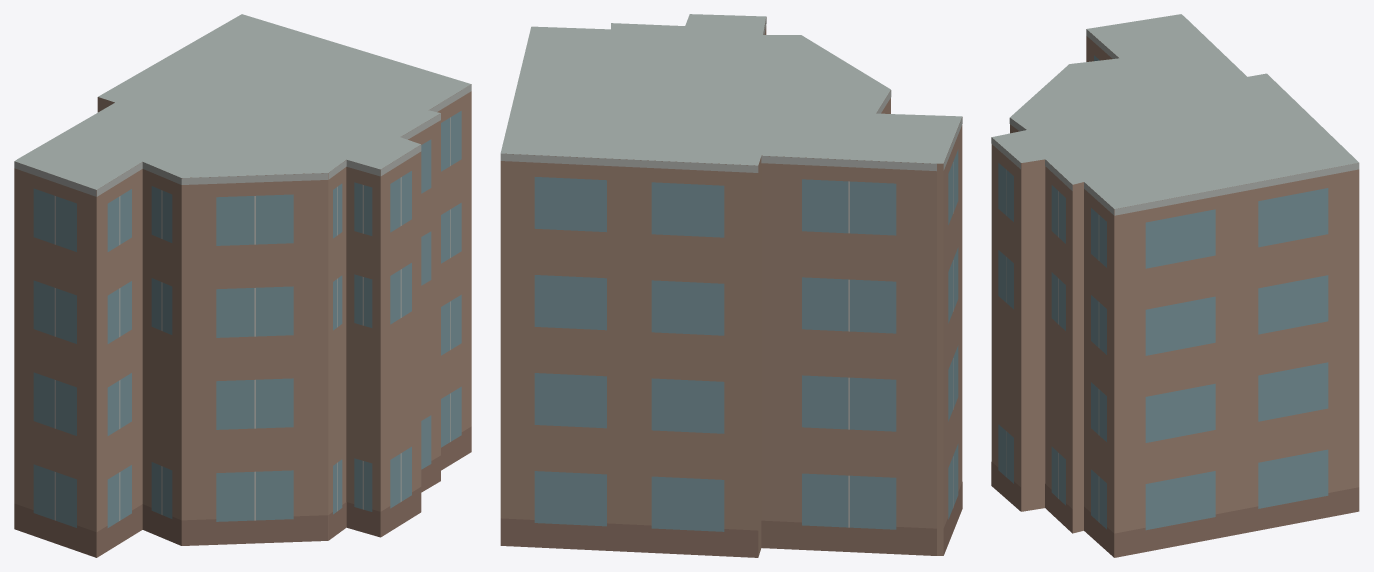
Rendered from survey-upis-32619391.glb.
3 renders of one model, left to right at view 1: azimuth 30°, elevation 25°; view 2: azimuth 150°, elevation 25°; view 3: azimuth 270°, elevation 25°, orthographic. The views are drawn at different scales.
Visible parts, largest first — view 1: survey-upis-32619391.tmp; view 2: survey-upis-32619391.tmp; view 3: survey-upis-32619391.tmp.
Part boxes in pixels (box(x1,y1,x2,y2)): survey-upis-32619391.tmp: box(14, 14, 471, 557); survey-upis-32619391.tmp: box(500, 14, 962, 557); survey-upis-32619391.tmp: box(991, 14, 1359, 557).
Size of the model in its own units: 15.41 by 12.83 by 12.27.
